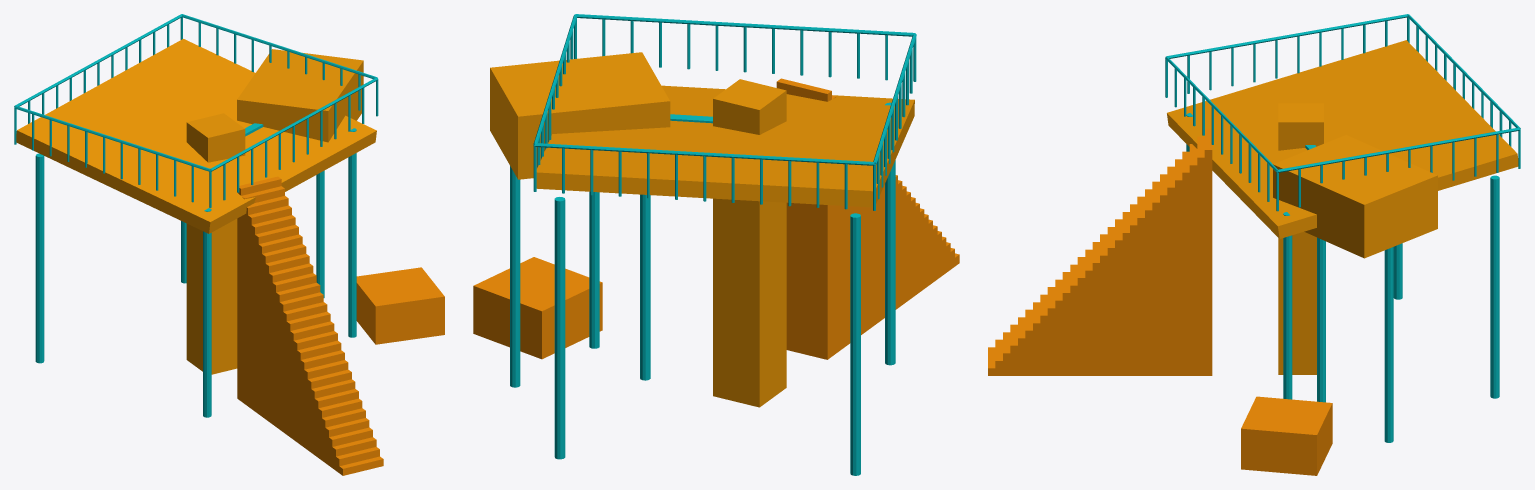
File: folie_tag_037.glb
3 renders of one model, left to right at view 1: azimuth 30°, elevation 25°; view 2: azimuth 150°, elevation 25°; view 3: azimuth 270°, elevation 25°, orthographic. The views are drawn at different scales.
Visible parts, largest first — view 1: folie_tag_037_00_plate, folie_tag_037_stairs, folie_tag_037_line, folie_tag_037_core, folie_tag_037_01_block, folie_tag_037_02_block; view 2: folie_tag_037_00_plate, folie_tag_037_line, folie_tag_037_stairs, folie_tag_037_core, folie_tag_037_01_block, folie_tag_037_02_block; view 3: folie_tag_037_stairs, folie_tag_037_00_plate, folie_tag_037_line, folie_tag_037_01_block, folie_tag_037_core, folie_tag_037_02_block.
Boxes of the visible parts, x1,y1,x2,y2 form: folie_tag_037_00_plate: (16,39,376,233); folie_tag_037_stairs: (237,176,383,475); folie_tag_037_line: (14,14,378,417); folie_tag_037_core: (186,113,245,374); folie_tag_037_01_block: (237,49,363,142); folie_tag_037_02_block: (356,267,444,344); folie_tag_037_00_plate: (536,85,914,207); folie_tag_037_line: (510,14,916,475); folie_tag_037_stairs: (776,78,959,359); folie_tag_037_core: (713,79,786,407); folie_tag_037_01_block: (490,52,670,179); folie_tag_037_02_block: (473,257,602,359); folie_tag_037_stairs: (988,129,1212,375); folie_tag_037_00_plate: (1167,40,1518,238); folie_tag_037_line: (1165,14,1520,442); folie_tag_037_01_block: (1273,135,1437,258); folie_tag_037_core: (1278,103,1323,374); folie_tag_037_02_block: (1241,396,1332,475).
Size of the model in its own units: 10.78 by 7.26 by 12.84.
